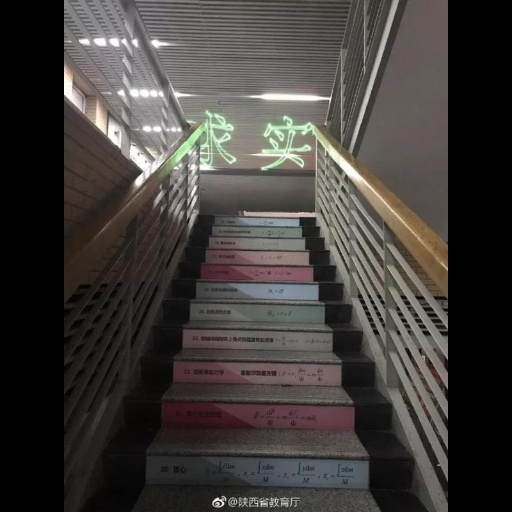Stairs: (82, 215, 212, 512), (312, 252, 426, 512)
